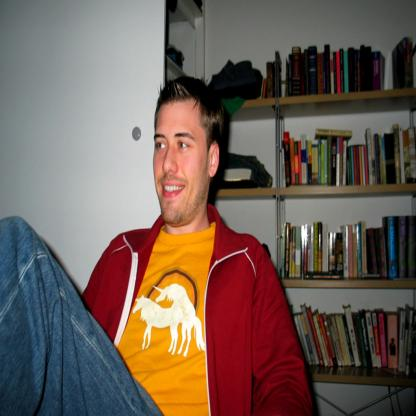book: (292, 303, 415, 377), (280, 125, 416, 187), (280, 218, 415, 280), (261, 43, 416, 91), (308, 44, 318, 95)
